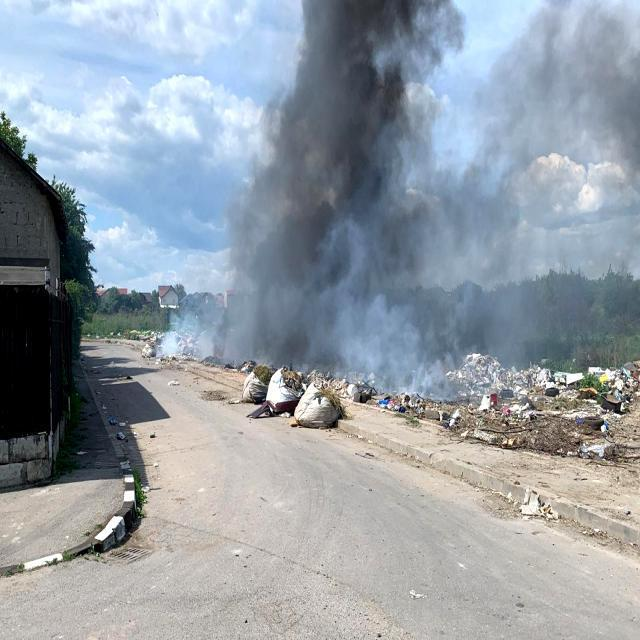Smoke: (217, 0, 530, 384)
